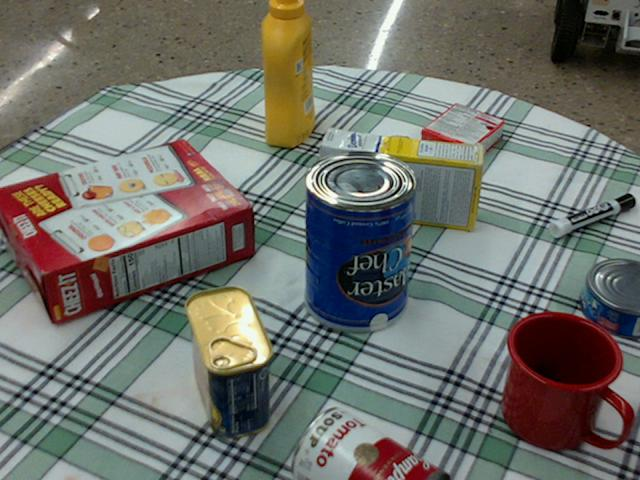cracker_box: (0, 141, 250, 322)
gelatin_box: (419, 103, 503, 166)
large_marker: (549, 193, 634, 236)
master_chef_can: (304, 149, 418, 330)
mug: (501, 311, 630, 449)
mustard_bottle: (260, 0, 313, 146)
potted_meat_can: (184, 285, 273, 436)
sugar_box: (318, 129, 484, 230)
tomato_soup_can: (292, 408, 450, 479)
tuna_fish_can: (581, 259, 639, 338)
